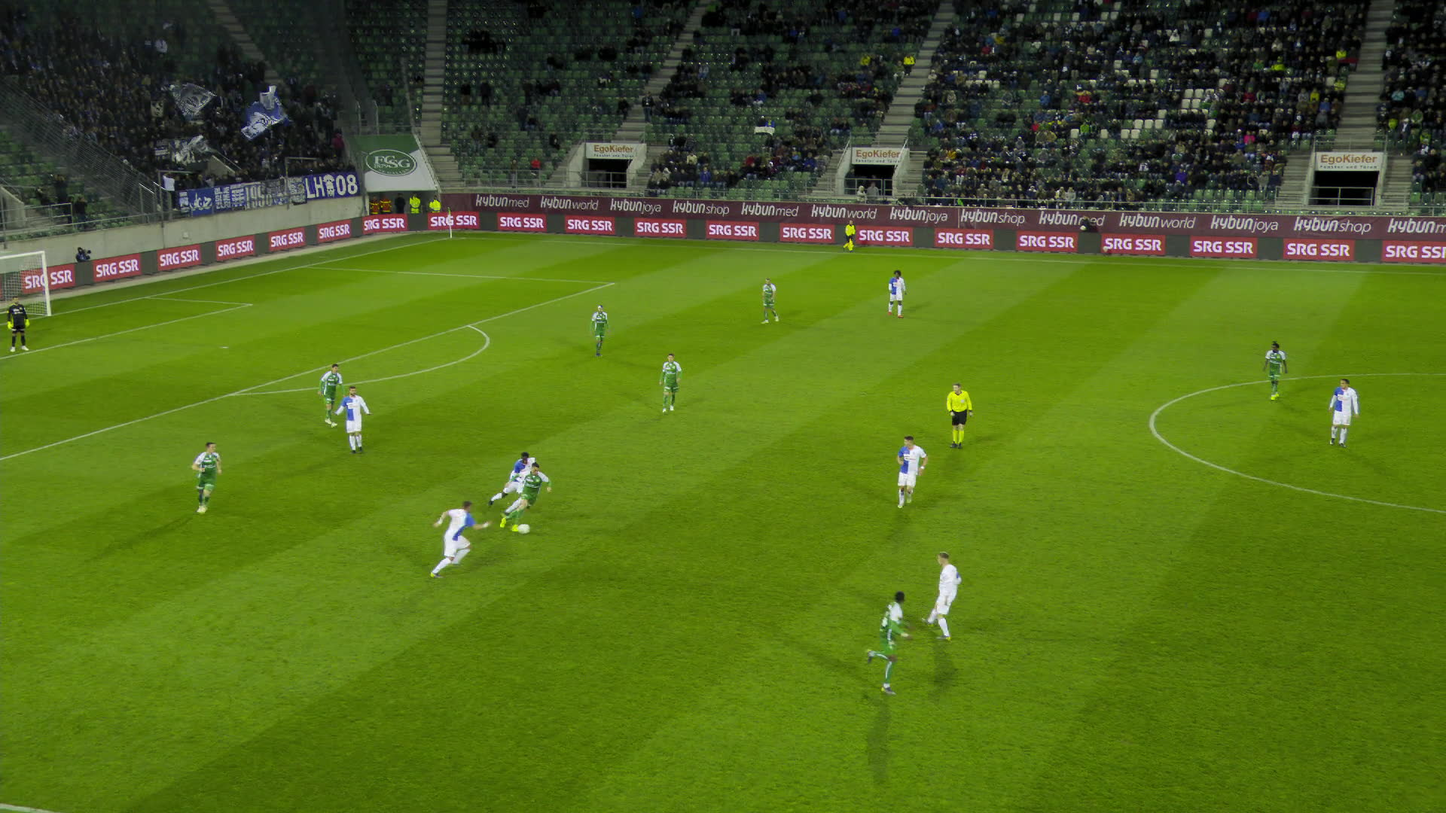ball: (518, 524, 528, 533)
player: (854, 589, 913, 684), (420, 498, 475, 573), (926, 549, 967, 633), (499, 463, 548, 531), (490, 452, 539, 513), (892, 434, 928, 511), (334, 386, 372, 455), (192, 443, 225, 516), (1322, 379, 1356, 449), (317, 364, 344, 429), (657, 352, 683, 414), (1260, 341, 1285, 402), (6, 297, 28, 353), (588, 305, 608, 358), (887, 269, 906, 318), (761, 279, 779, 324)
referee: (943, 382, 969, 451), (841, 220, 856, 253)
